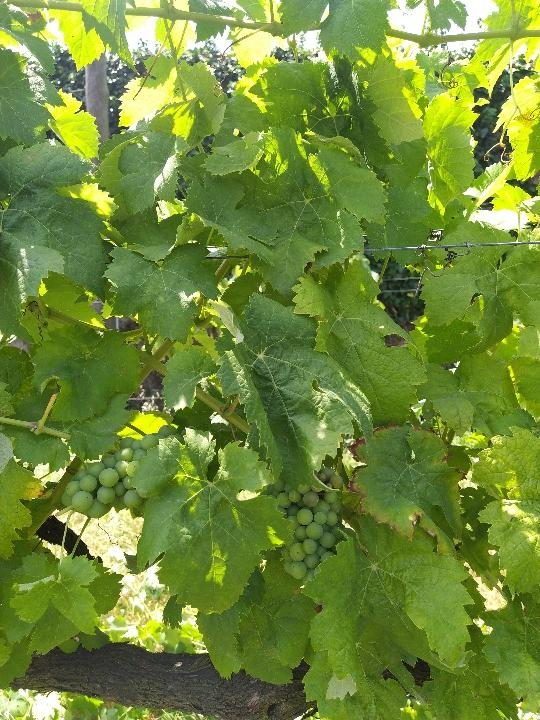grape: (60, 420, 188, 521), (268, 466, 347, 588)
